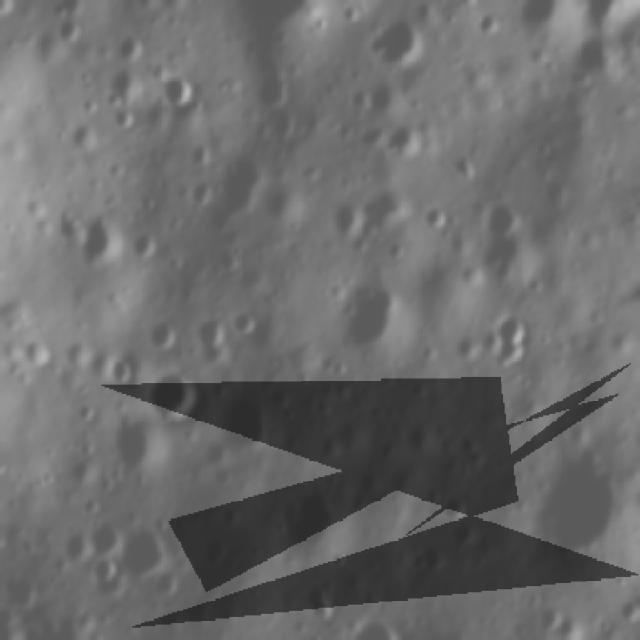crater: (546, 458, 632, 552), (342, 270, 404, 356), (284, 486, 334, 552), (222, 392, 273, 456), (217, 161, 274, 217), (369, 16, 434, 64), (72, 213, 128, 264), (148, 370, 198, 425), (118, 423, 173, 471), (124, 521, 171, 577), (511, 0, 566, 43), (570, 36, 616, 82), (500, 310, 534, 365), (480, 197, 526, 235), (340, 617, 414, 640), (192, 322, 228, 363), (330, 198, 370, 234), (56, 527, 92, 565), (252, 70, 294, 102), (5, 572, 44, 606), (388, 122, 424, 158), (70, 334, 101, 374), (132, 229, 165, 265), (90, 556, 122, 593), (163, 73, 195, 109), (475, 4, 508, 38), (68, 118, 100, 152), (310, 577, 335, 620), (108, 358, 137, 394), (421, 207, 457, 235), (24, 335, 50, 373), (90, 519, 116, 556), (201, 534, 228, 568), (110, 68, 136, 103), (264, 112, 296, 140), (230, 310, 258, 341), (217, 249, 249, 276), (105, 106, 138, 132), (617, 592, 640, 626), (153, 321, 176, 354), (188, 141, 214, 170), (451, 153, 480, 179), (405, 552, 438, 574), (538, 603, 562, 631), (77, 493, 103, 518), (452, 333, 477, 359), (448, 523, 477, 545), (51, 0, 93, 15), (441, 495, 468, 516), (73, 402, 98, 424), (190, 184, 212, 207), (0, 448, 14, 484), (55, 21, 80, 41), (482, 326, 502, 349), (423, 488, 446, 503), (218, 467, 232, 488), (307, 627, 327, 640), (0, 0, 17, 15), (634, 342, 640, 367)
